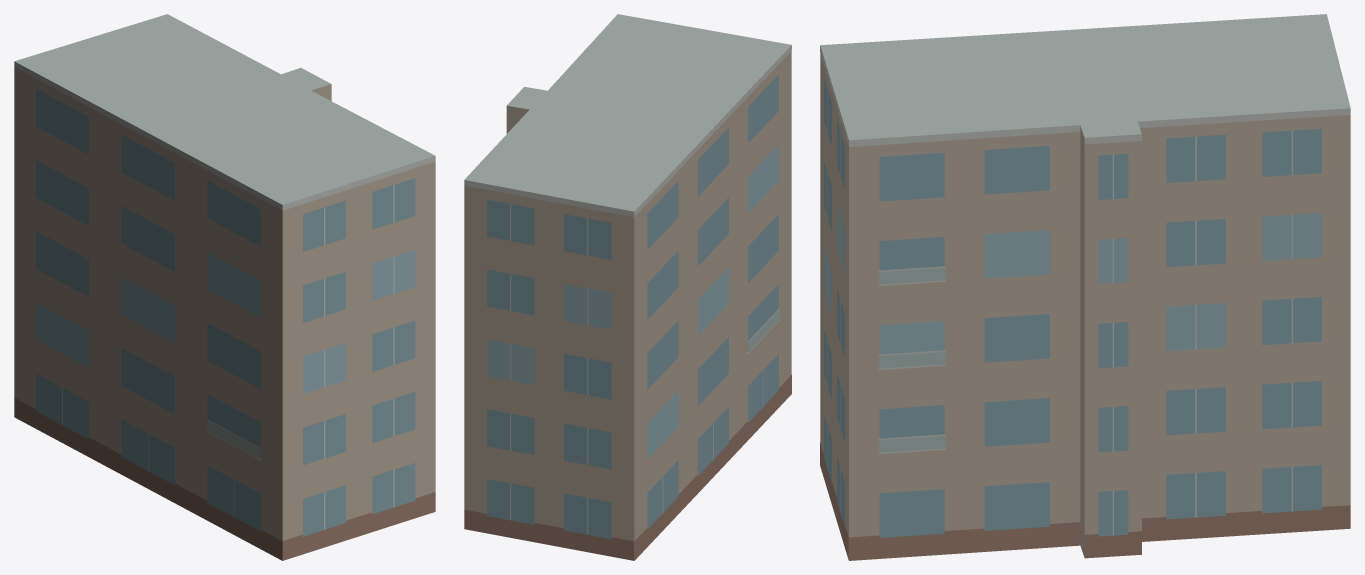
File: survey-upis-32952680.glb
3 views of the same model, side by side, from view 1: azimuth 30°, elevation 25°; view 2: azimuth 150°, elevation 25°; view 3: azimuth 270°, elevation 25° (orthographic). The views are drawn at different scales.
Visible parts, largest first — view 1: survey-upis-32952680.tmp; view 2: survey-upis-32952680.tmp; view 3: survey-upis-32952680.tmp.
Part boxes in pixels (x1,y1,x2,y2): survey-upis-32952680.tmp: [14, 14, 435, 560]; survey-upis-32952680.tmp: [464, 14, 791, 560]; survey-upis-32952680.tmp: [820, 14, 1350, 560].
Bounding box in the file's own units: 9.84 × 15.25 × 17.45.
